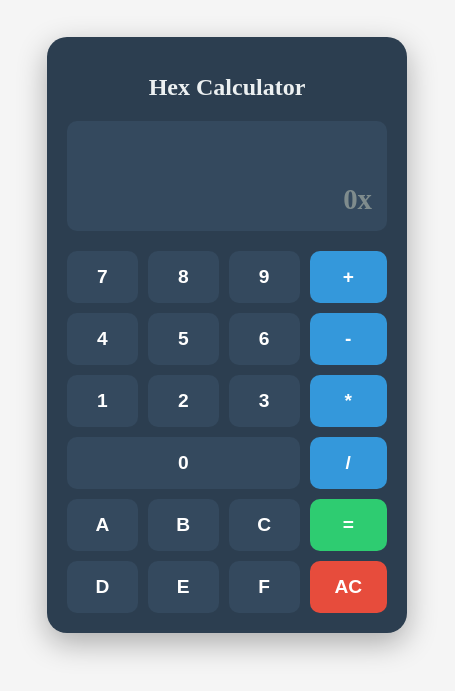
HexCalculator › should perform hex addition
The image size is (455, 691).
Click the button with test id "button-A".
click(103, 525)  # box [67,499,138,551]
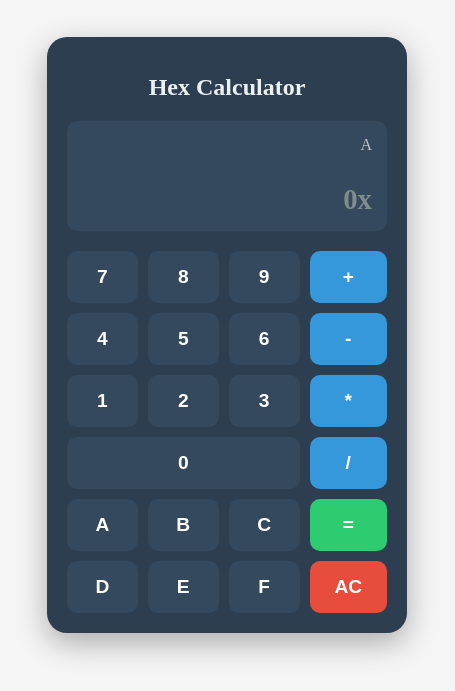
Click the button with test id "button-+".
click(349, 277)  # box [310,251,388,303]
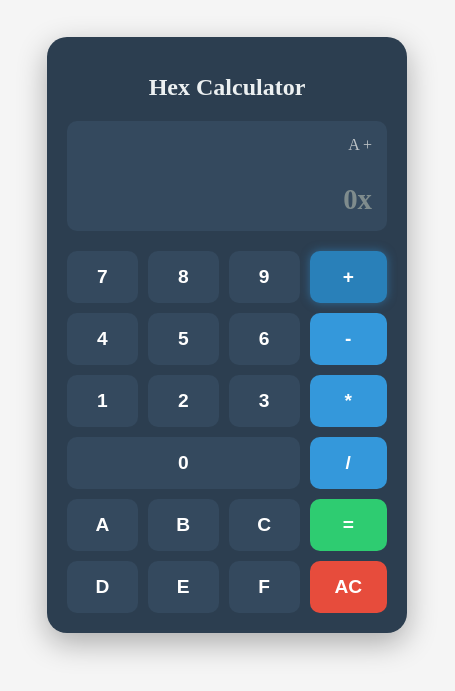
Click the button with test id "button-5".
click(184, 339)  # box [148,313,219,365]
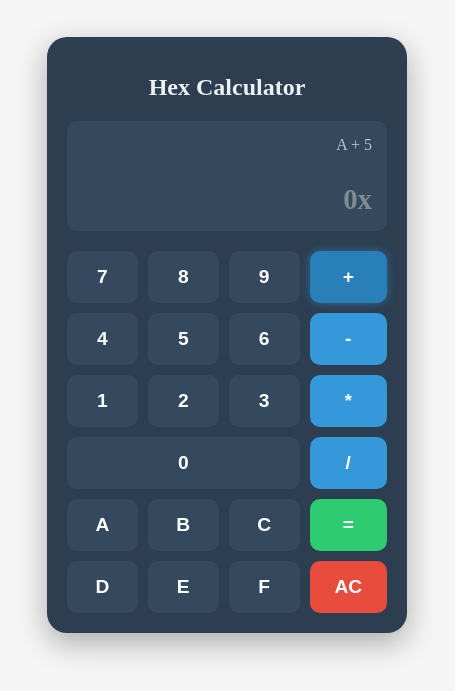
Click the button with test id "button-equals".
click(349, 525)  # box [310,499,388,551]
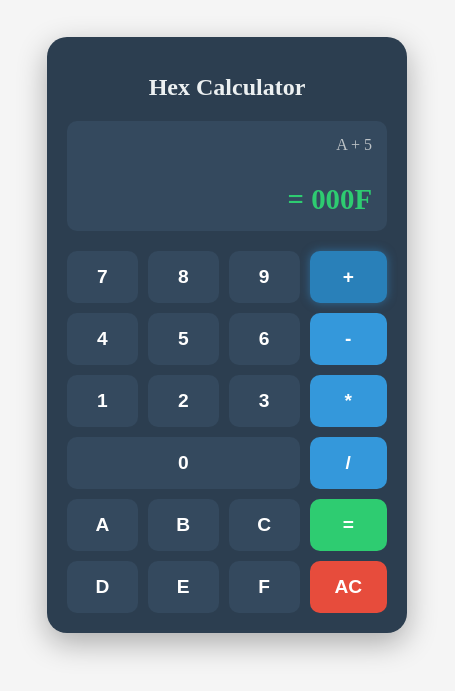
Expected: the element with test id "result" reads "= 000F", [288,183,372,215]
